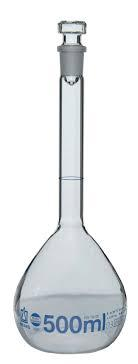Volumetric flask: (16, 12, 132, 355)
